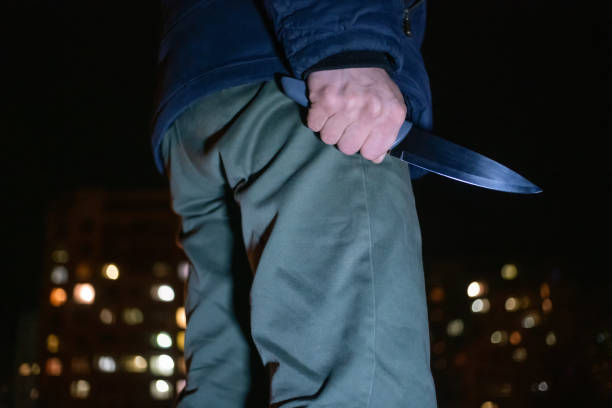knife: (276, 74, 545, 197)
